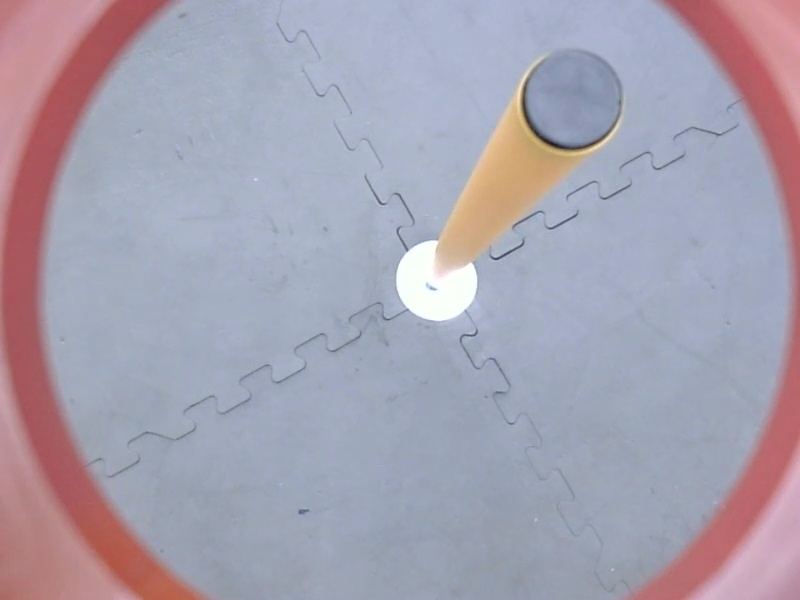tip: (508, 39, 636, 162)
